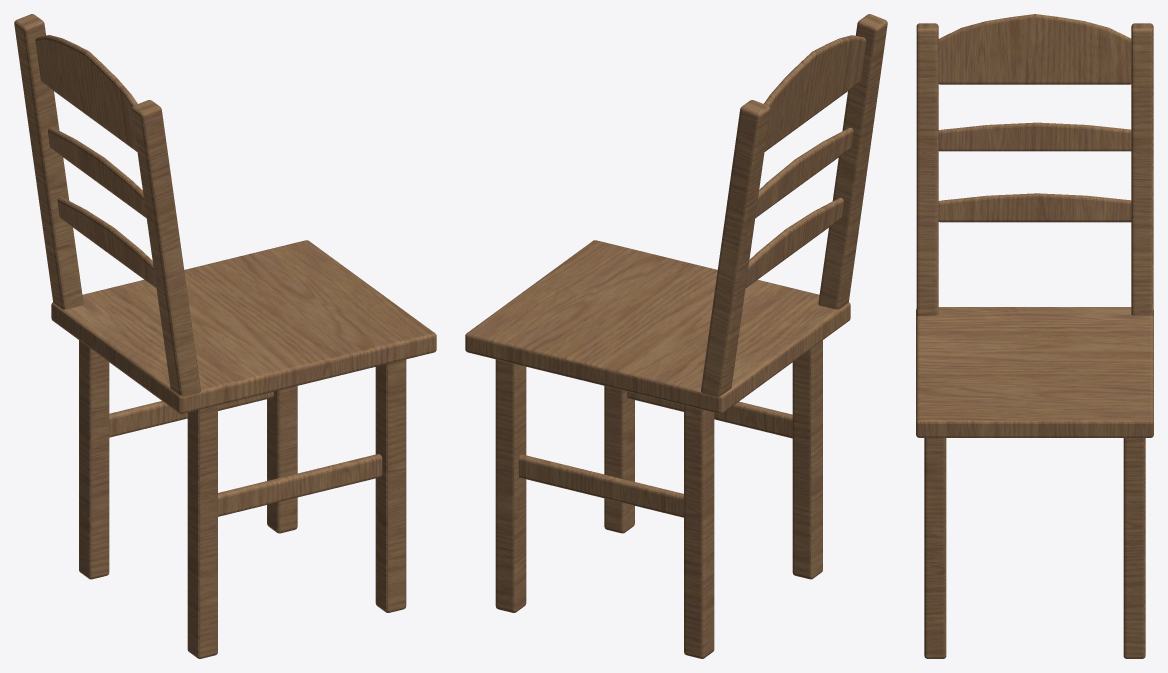
File: Chair.fbx
3 renders of one model, left to right at view 1: azimuth 30°, elevation 25°; view 2: azimuth 150°, elevation 25°; view 3: azimuth 270°, elevation 25°, orthographic. The views are drawn at different scales.
Visible parts, largest first — view 1: Chair; view 2: Chair; view 3: Chair.
Boxes of the visible parts, x1,y1,x2,y2 form: Chair: (14, 14, 436, 658); Chair: (465, 14, 887, 658); Chair: (916, 14, 1153, 658).
Size of the model in its own units: 1413 by 2641 by 1075.
